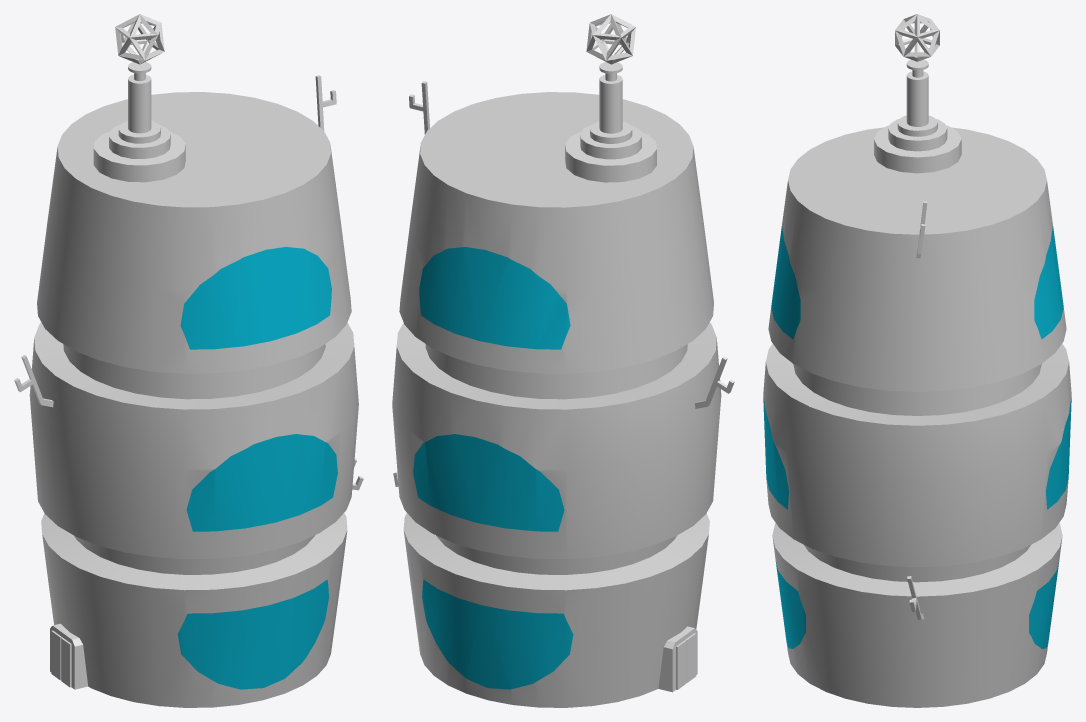
Rendered from Apartment Building (Fixed).fbx.
3 renders of one model, left to right at view 1: azimuth 30°, elevation 25°; view 2: azimuth 150°, elevation 25°; view 3: azimuth 270°, elevation 25°, orthographic. The views are drawn at different scales.
Visible parts, largest first — view 1: apartment, Top Antena, SpinnyThing, Antenas, DoorFrame, DoorFrame.001; view 2: apartment, Top Antena, SpinnyThing, DoorFrame, Antenas, DoorFrame.001; view 3: apartment, Top Antena, SpinnyThing, Antenas.
Boxes of the visible parts, bbox=[...] form: apartment: bbox=[29, 92, 358, 707]; Top Antena: bbox=[93, 62, 185, 182]; SpinnyThing: bbox=[115, 14, 164, 64]; Antenas: bbox=[14, 75, 363, 490]; DoorFrame: bbox=[50, 623, 88, 689]; DoorFrame.001: bbox=[51, 630, 71, 687]; apartment: bbox=[392, 92, 721, 707]; Top Antena: bbox=[565, 62, 656, 182]; SpinnyThing: bbox=[586, 14, 635, 64]; DoorFrame: bbox=[658, 626, 697, 692]; Antenas: bbox=[393, 81, 734, 486]; DoorFrame.001: bbox=[676, 633, 696, 689]; apartment: bbox=[763, 127, 1071, 707]; Top Antena: bbox=[874, 59, 961, 173]; SpinnyThing: bbox=[895, 14, 939, 61]; Antenas: bbox=[907, 201, 927, 619].
Size of the model in its own units: 381 by 687 by 313.
